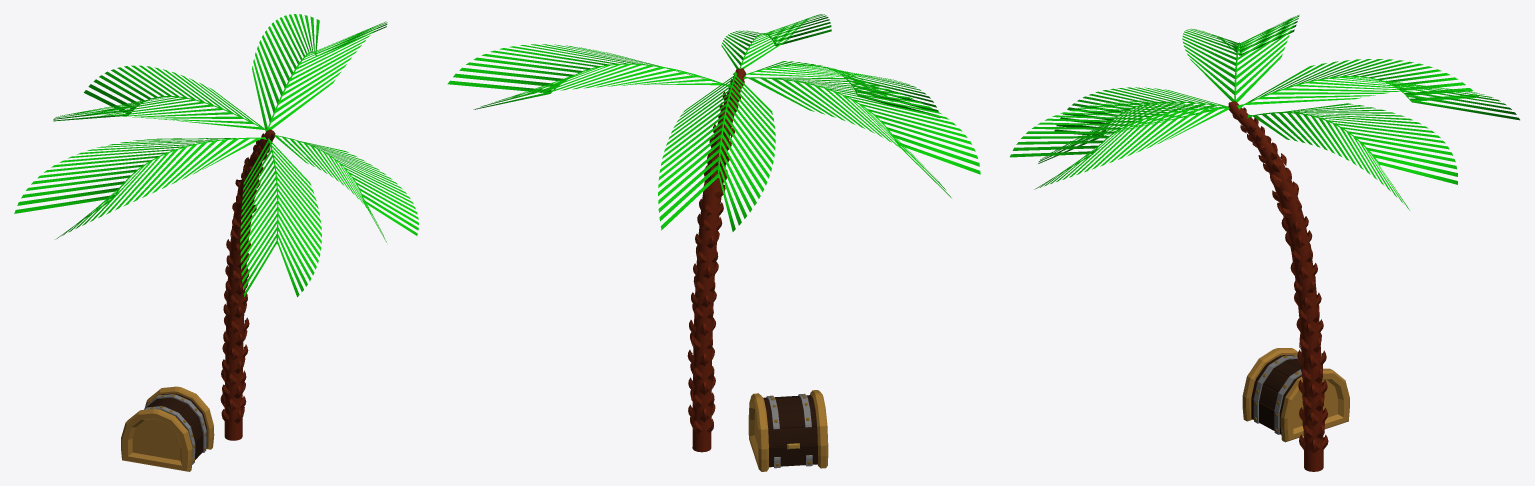
The model's file is palmtree.obj.
The picture shows the model from 3 angles, left to right: view 1: azimuth 30°, elevation 25°; view 2: azimuth 150°, elevation 25°; view 3: azimuth 270°, elevation 25°; orthographic projection. The views are drawn at different scales.
Visible parts, largest first — view 1: BezierCurve.003, BezierCurve, iron_side_supports, wooden_chest, iron_fasteners; view 2: BezierCurve.003, BezierCurve, wooden_chest, iron_side_supports, iron_fasteners; view 3: BezierCurve.003, BezierCurve, iron_side_supports, wooden_chest, iron_fasteners.
Boxes of the visible parts, left/top/right/bottom form: BezierCurve.003: left=14, top=14, right=418, bottom=297; BezierCurve: left=220, top=129, right=275, bottom=440; iron_side_supports: left=121, top=386, right=214, bottom=471; wooden_chest: left=144, top=393, right=207, bottom=459; iron_fasteners: left=144, top=394, right=206, bottom=464; BezierCurve.003: left=447, top=14, right=980, bottom=231; BezierCurve: left=687, top=68, right=745, bottom=452; wooden_chest: left=763, top=395, right=817, bottom=467; iron_side_supports: left=748, top=390, right=828, bottom=471; iron_fasteners: left=766, top=393, right=812, bottom=468; BezierCurve.003: left=1010, top=14, right=1519, bottom=210; BezierCurve: left=1228, top=101, right=1328, bottom=471; iron_side_supports: left=1242, top=348, right=1349, bottom=442; wooden_chest: left=1251, top=355, right=1301, bottom=434; iron_fasteners: left=1253, top=355, right=1301, bottom=434.
Size of the model in its own units: 6.75 by 5.39 by 6.39.
